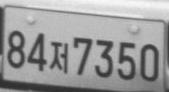0: (139, 43, 160, 82)
3: (94, 39, 114, 78)
4: (26, 32, 48, 72)
5: (116, 41, 137, 80)
7: (72, 36, 93, 75)
8: (6, 29, 26, 69)
저: (48, 41, 69, 74)
